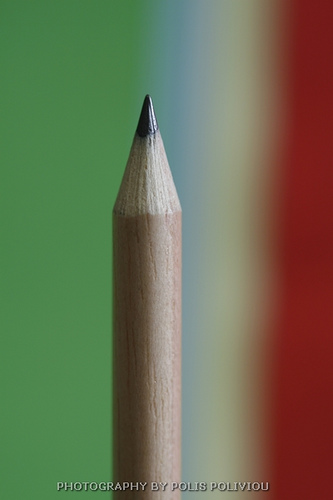pen_tip: (100, 92, 193, 245)
